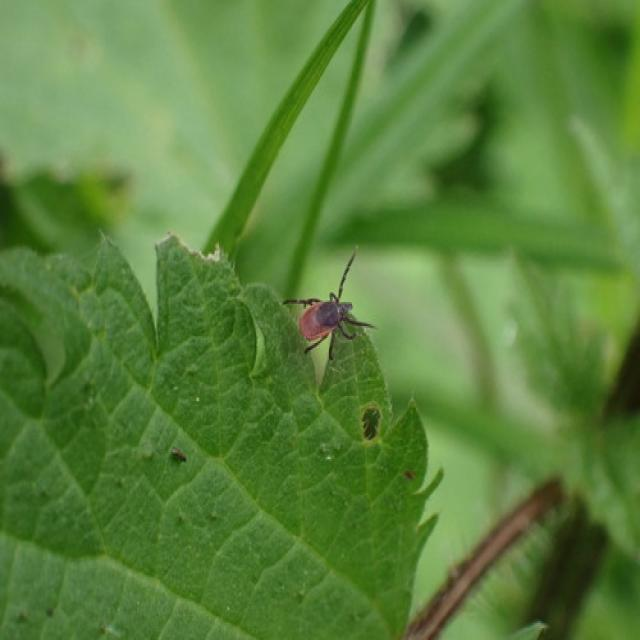Ixodes Ricinus-F: (283, 249, 378, 362)
